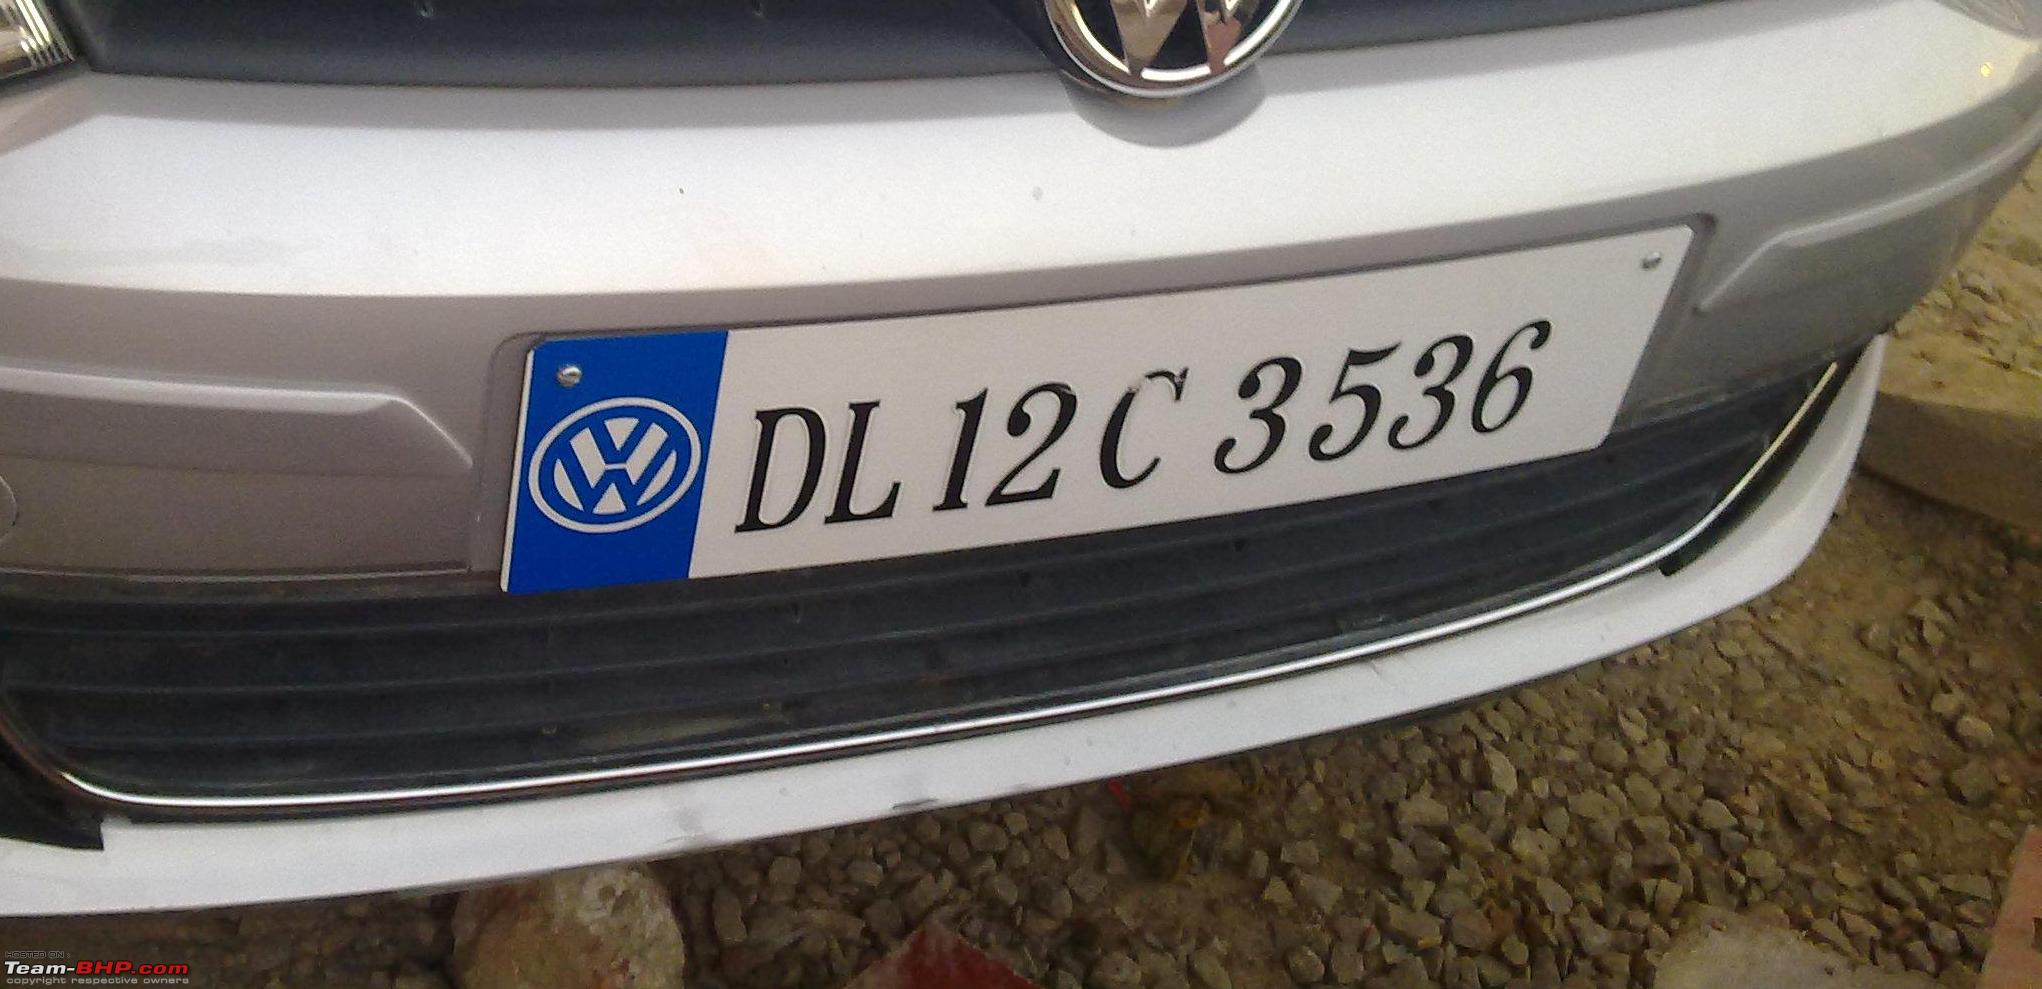number_plate: (481, 221, 1748, 594)
